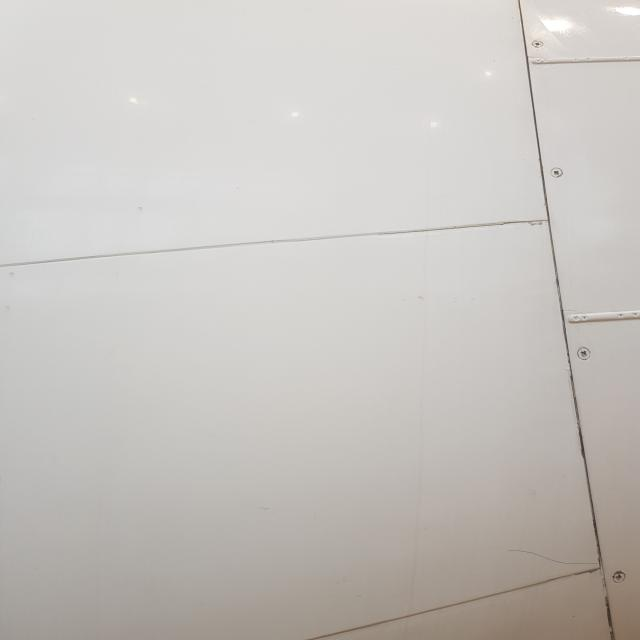Rupture: (503, 531, 602, 571)
